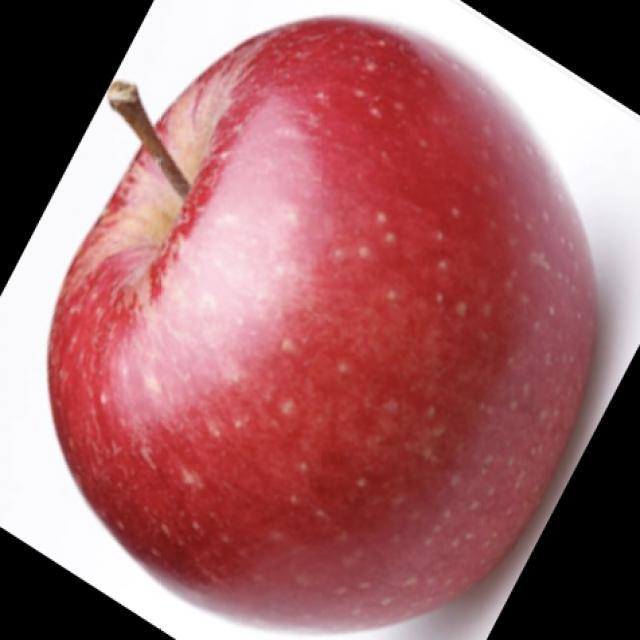Fresh Apple: (76, 36, 602, 596)
